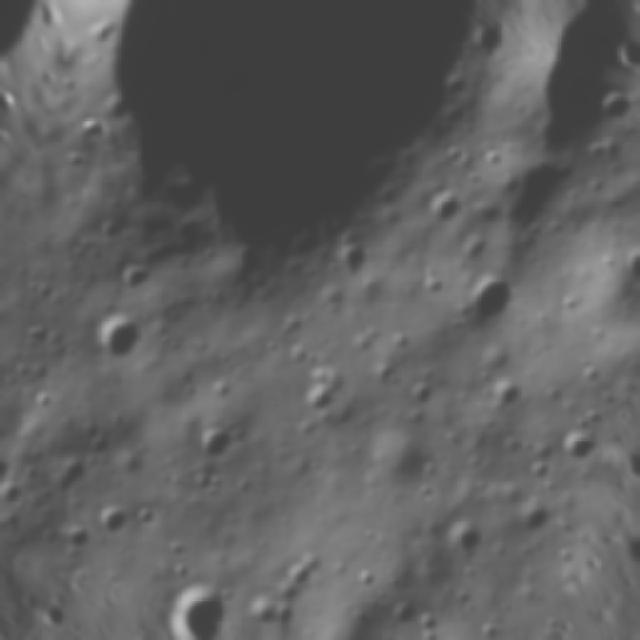crater: (24, 0, 482, 323), (499, 50, 616, 167), (361, 414, 445, 500), (452, 256, 530, 339), (83, 302, 157, 376), (167, 570, 245, 627), (501, 484, 565, 544), (293, 365, 355, 426), (185, 416, 244, 475), (44, 445, 102, 504), (448, 219, 506, 278), (440, 511, 494, 567), (415, 180, 467, 237), (468, 333, 520, 384), (557, 420, 605, 469), (330, 233, 376, 284), (184, 459, 230, 507), (594, 83, 638, 131), (66, 109, 112, 154), (90, 493, 133, 541), (116, 256, 161, 301), (58, 514, 102, 560), (485, 372, 527, 418), (578, 130, 622, 172), (385, 591, 427, 634), (368, 354, 410, 397), (403, 373, 445, 416), (242, 588, 283, 632), (344, 323, 385, 366), (92, 91, 134, 131), (277, 552, 317, 594), (408, 601, 451, 640), (411, 266, 452, 306), (206, 368, 245, 410), (433, 134, 472, 174), (128, 496, 163, 536), (76, 413, 110, 453), (0, 445, 22, 503), (350, 561, 384, 596), (482, 142, 516, 176), (33, 382, 64, 418), (0, 475, 29, 513), (620, 238, 640, 290), (64, 148, 94, 178), (526, 452, 556, 482), (96, 214, 124, 243), (11, 356, 35, 384), (475, 617, 502, 640), (262, 333, 284, 358), (631, 187, 640, 247), (635, 114, 640, 180)
